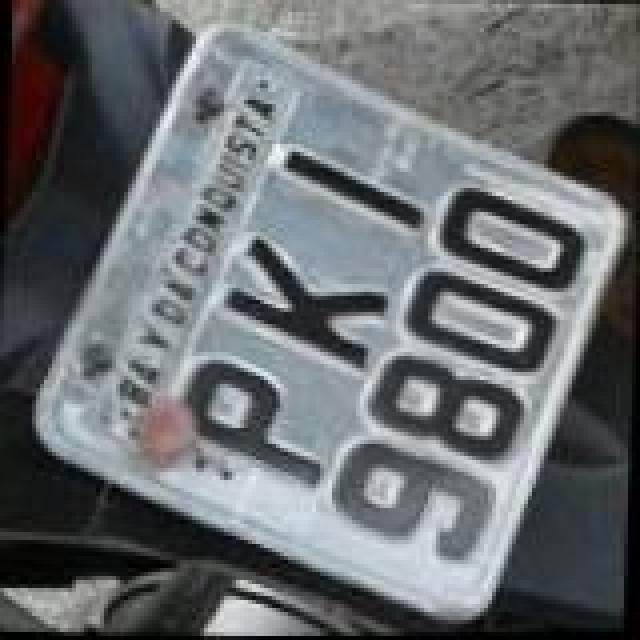1: (278, 138, 430, 242)
8: (360, 350, 524, 462)
9: (322, 434, 494, 574)
K: (218, 228, 386, 372)
O: (392, 264, 564, 376), (428, 172, 580, 292)
P: (176, 354, 332, 486)
